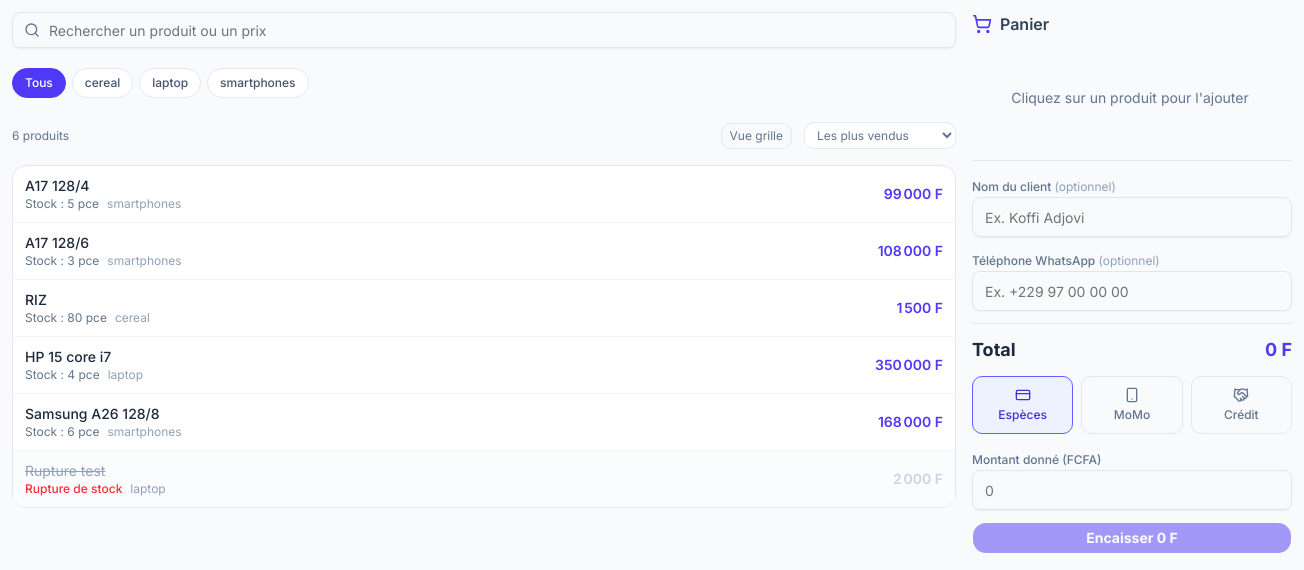
it: POS — la barre de catégories › « Tous » revient au catalogue entier
Step 1. Click the button "cereal" → [102, 83], box [72,68,133,98]
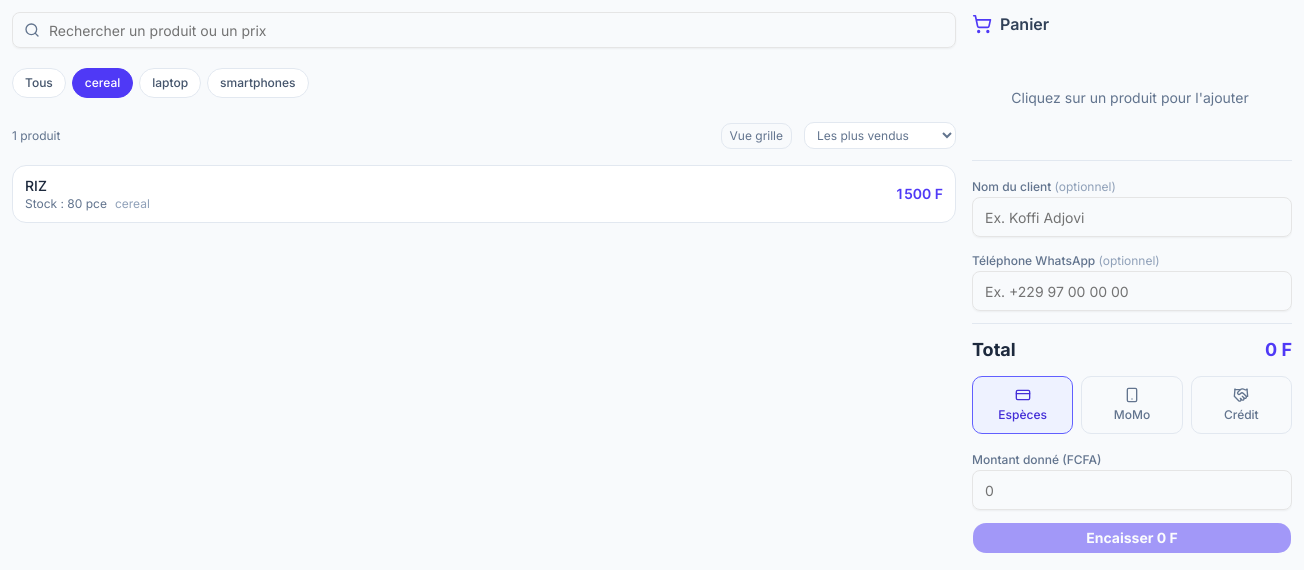
Result: the button "A17 128/4" is gone
Step 2. Click the button "Tous" → [39, 83], box [12,68,66,98]
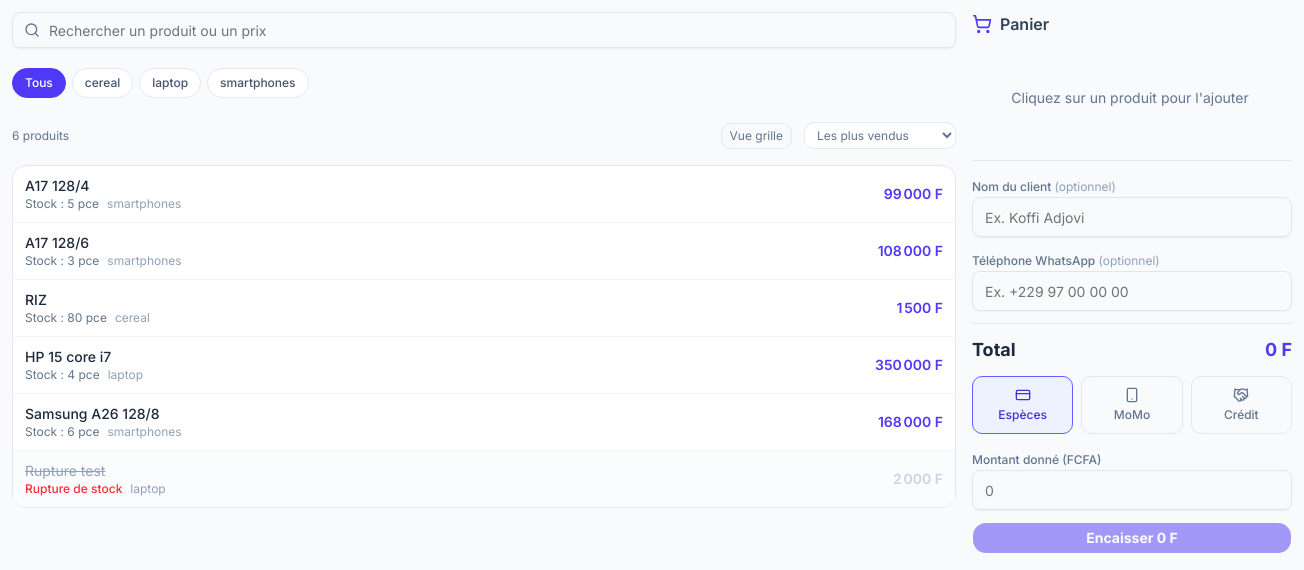
Result: the text "A17 128/4" is shown at [25,177,90,194]
